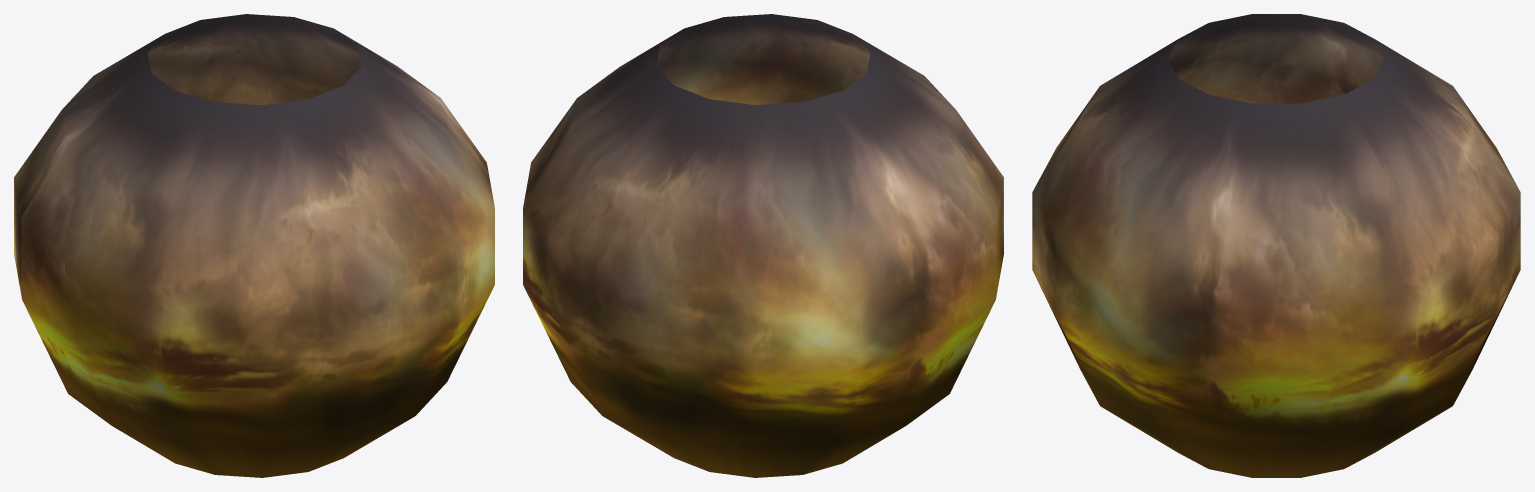
Rendered from sky_sm.FBX.
3 renders of one model, left to right at view 1: azimuth 30°, elevation 25°; view 2: azimuth 150°, elevation 25°; view 3: azimuth 270°, elevation 25°, orthographic.
Parts seen in each view (by area): view 1: sky_sm; view 2: sky_sm; view 3: sky_sm.
Part boxes in pixels (left/top/right/bottom): sky_sm: left=14, top=14, right=494, bottom=477; sky_sm: left=523, top=14, right=1003, bottom=477; sky_sm: left=1032, top=14, right=1520, bottom=477.
Size of the model in its own units: 798 by 734 by 819.
